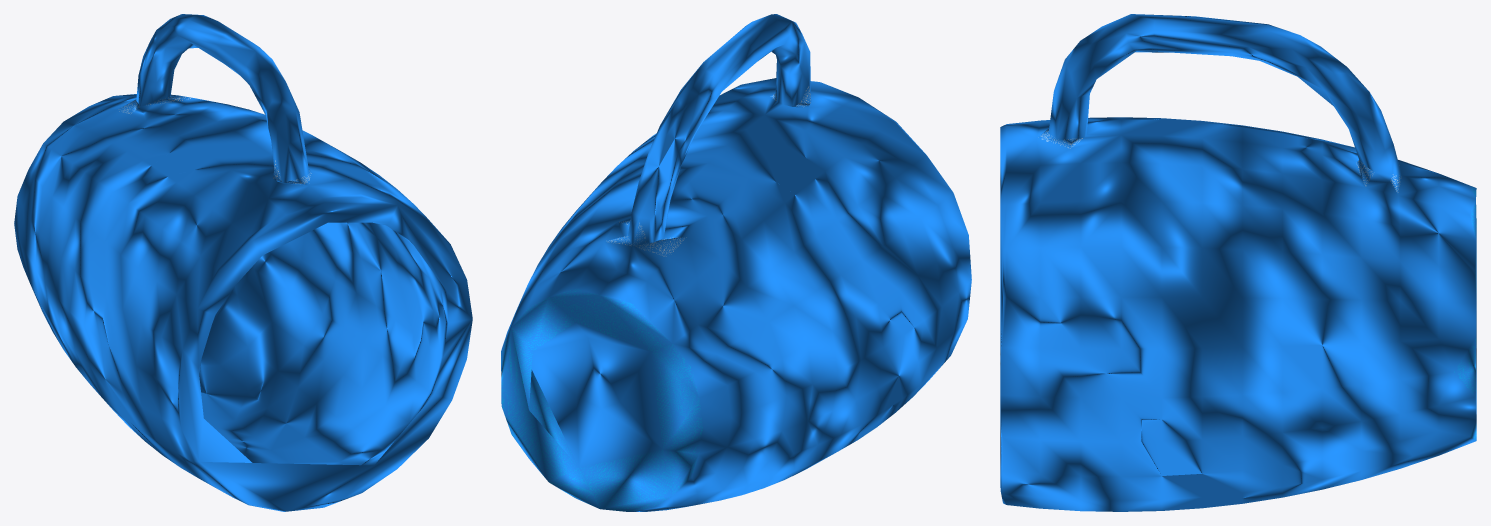
File: model_align.obj
3 renders of one model, left to right at view 1: azimuth 30°, elevation 25°; view 2: azimuth 150°, elevation 25°; view 3: azimuth 270°, elevation 25°, orthographic. The views are drawn at different scales.
Size of the model in its own units: 0.0847 by 0.1118 by 0.1018.
